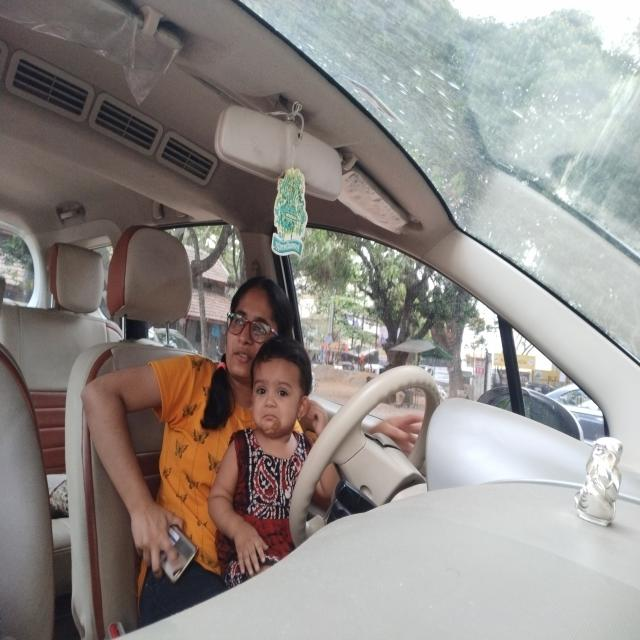child: (248, 341, 314, 441)
person: (219, 270, 296, 388)
